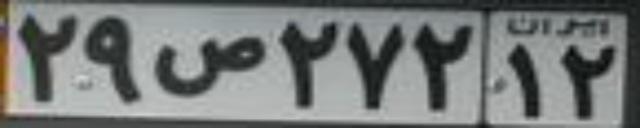1: (502, 43, 543, 116)
2: (276, 21, 340, 107), (413, 23, 477, 109), (15, 12, 76, 102), (556, 43, 615, 118)
7: (343, 21, 405, 108)
9: (81, 15, 140, 102)
saat: (151, 35, 267, 98)
